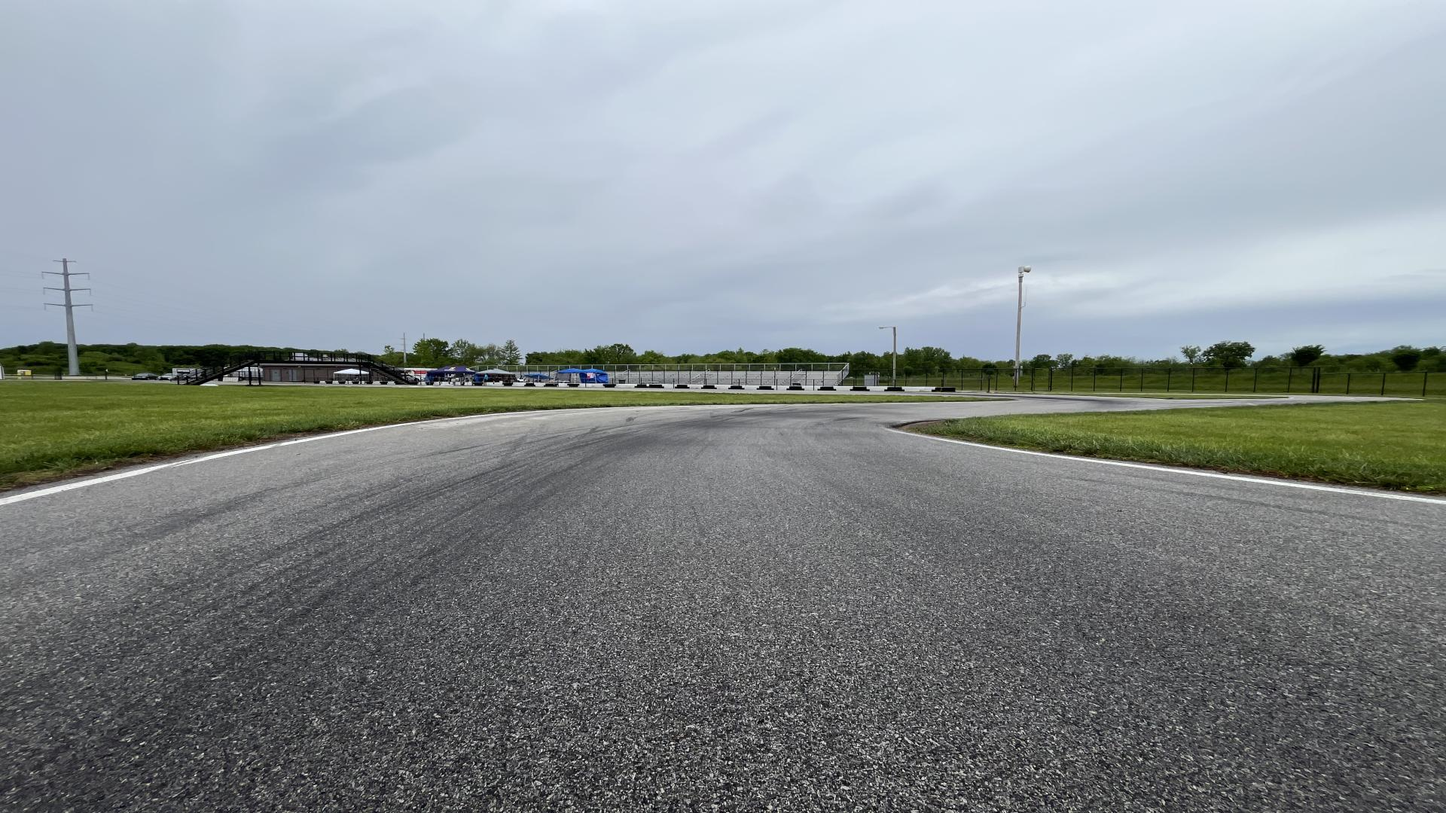white-line: (0, 404, 828, 507), (883, 428, 1445, 505)
